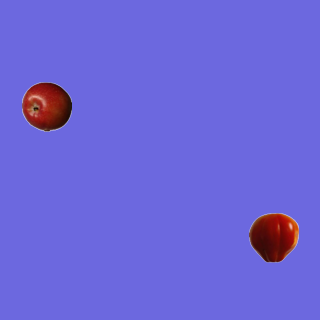Apple Braeburn: (21, 81, 71, 131)
Tomato 1: (248, 212, 298, 262)
